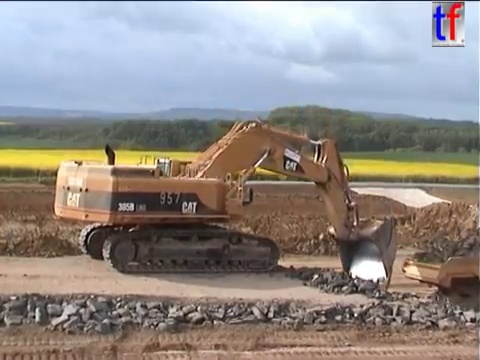excavator: (50, 115, 400, 298)
truck: (400, 244, 480, 321)
